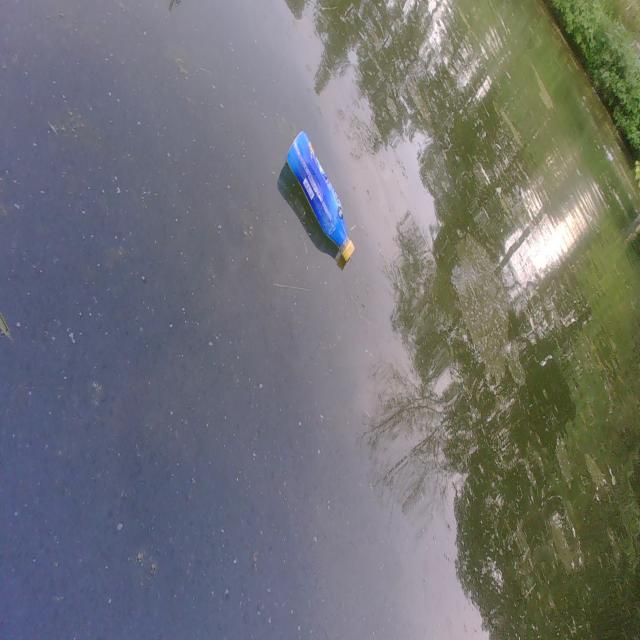Bottle: (284, 127, 358, 268)
